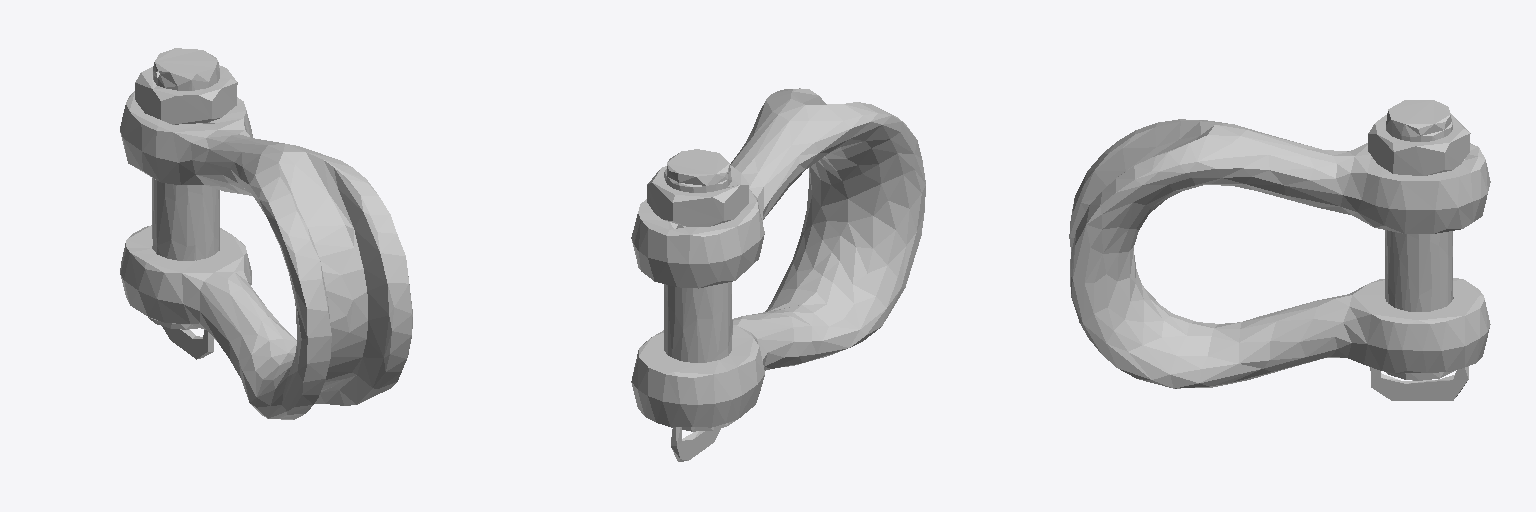
Rendered from GPWB_generic.obj.
The picture shows the model from 3 angles: view 1: azimuth 30°, elevation 25°; view 2: azimuth 150°, elevation 25°; view 3: azimuth 270°, elevation 25°; orthographic projection.
Bounding box in the file's own units: 0.4233 × 1.08 × 1.43.